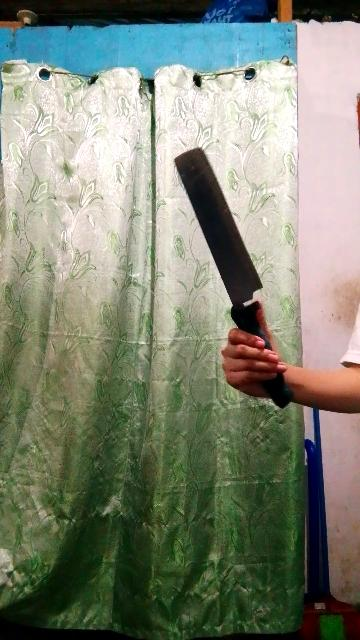long knife: (167, 145, 293, 415)
